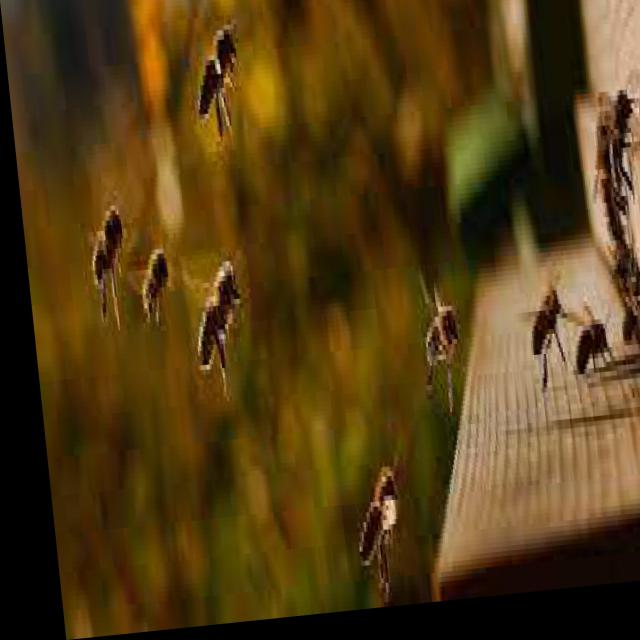Abeille: (176, 245, 245, 412), (336, 454, 404, 609), (402, 266, 463, 433), (180, 12, 252, 148), (507, 275, 568, 404), (76, 200, 128, 328), (592, 84, 639, 213), (122, 236, 174, 336), (563, 313, 608, 393)
